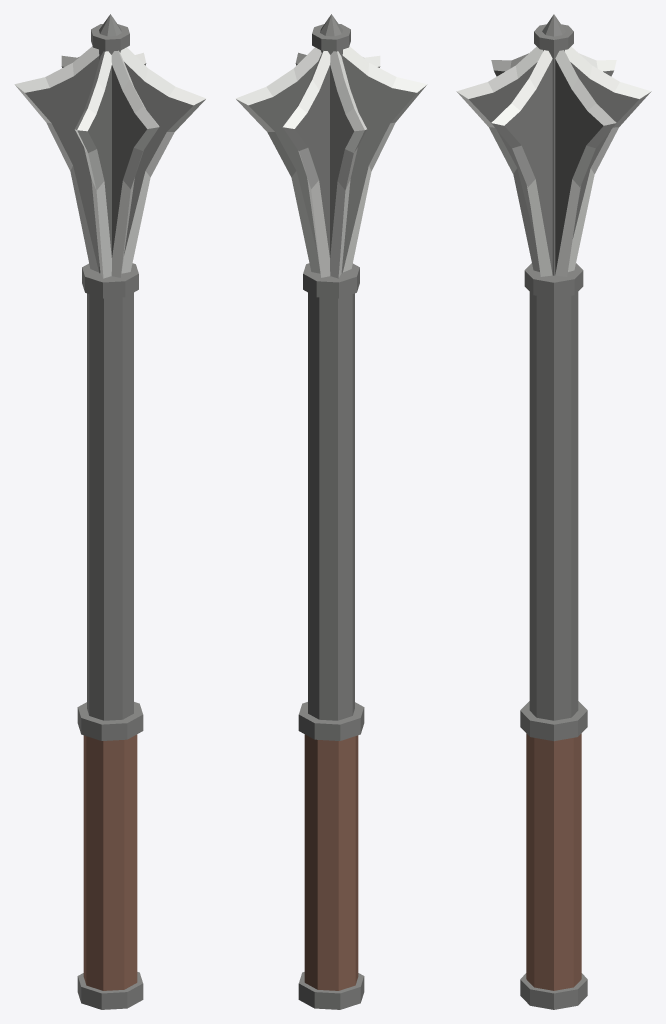
File: ankers-low-poly-medieval-weapons--mace.glb
3 renders of one model, left to right at view 1: azimuth 30°, elevation 25°; view 2: azimuth 150°, elevation 25°; view 3: azimuth 270°, elevation 25°, orthographic.
Parts seen in each view (by area): view 1: Mace; view 2: Mace; view 3: Mace.
Part boxes in pixels (x1,y1,x2,y2): Mace: [14, 14, 206, 1009]; Mace: [235, 14, 427, 1009]; Mace: [456, 14, 651, 1009].
Size of the model in its own units: 0.1677 by 1.21 by 0.2189.
